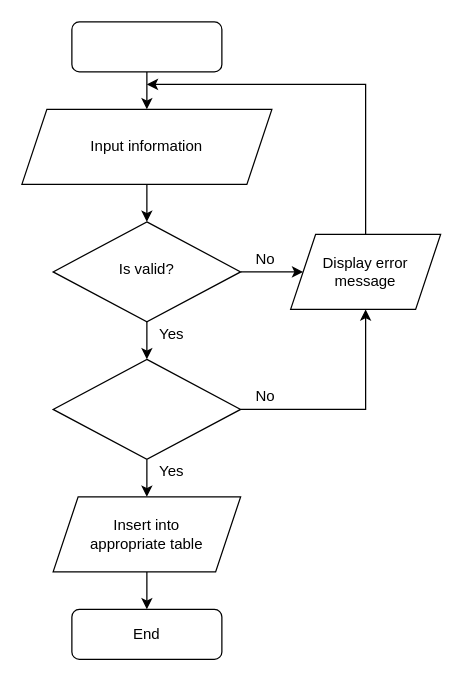
Some shapes in this 463 by 681 pixel diagram are drawn without their labels. Each missing label, with the centre of its shape:
"If exists in the appropriate table" belongs at pixel 146 408.
"Start" belongs at pixel 146 46.
